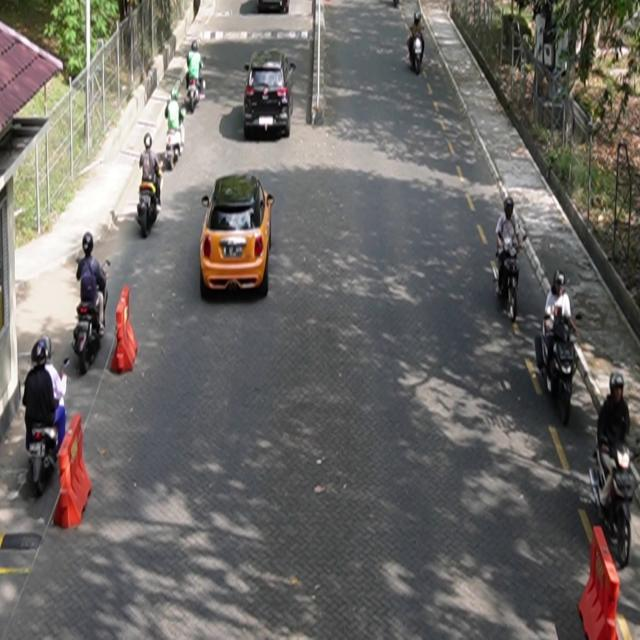car: (200, 172, 275, 298), (244, 49, 297, 140)
